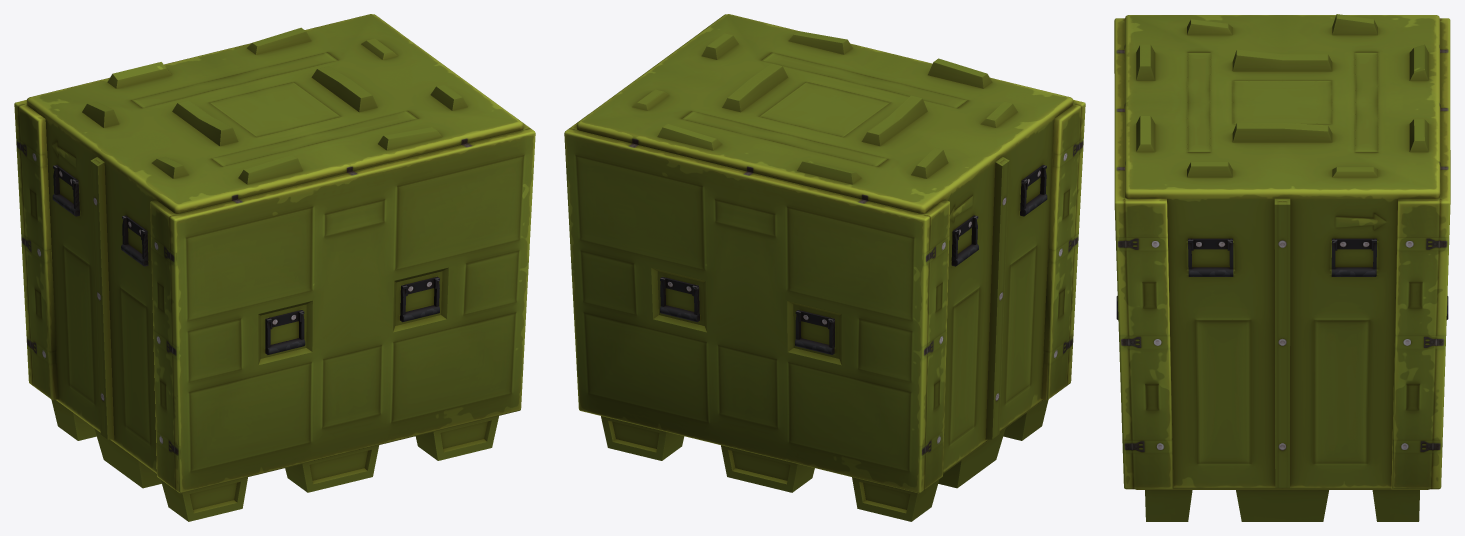
Rendered from StorageCase04.FBX.
The picture shows the model from 3 angles, left to right: view 1: azimuth 30°, elevation 25°; view 2: azimuth 150°, elevation 25°; view 3: azimuth 270°, elevation 25°; orthographic projection. The views are drawn at different scales.
Visible parts, largest first — view 1: StorageCase04; view 2: StorageCase04; view 3: StorageCase04.
Boxes of the visible parts, <box> form: StorageCase04: <box>14,14,535,521</box>; StorageCase04: <box>564,14,1085,521</box>; StorageCase04: <box>1114,14,1450,521</box>.
Size of what is drawn, in the model's own units: 2.07 by 1.87 by 1.59.
